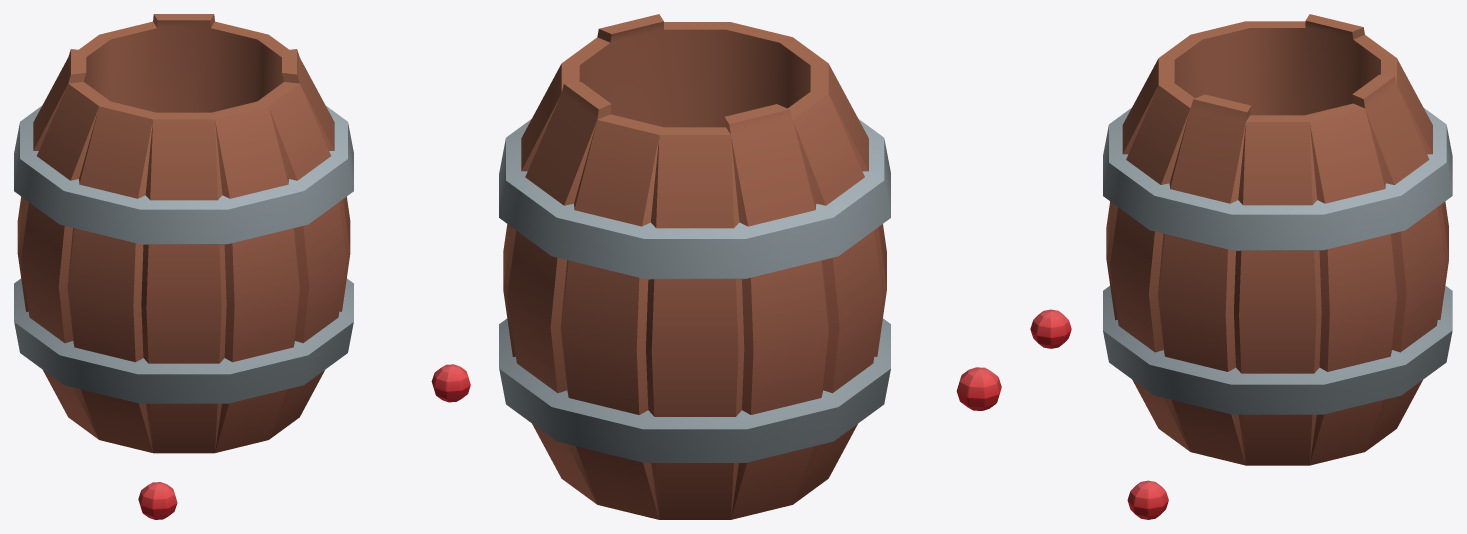
The model's file is apple_barrel_5.glb.
3 views of the same model, side by side, from view 1: azimuth 30°, elevation 25°; view 2: azimuth 150°, elevation 25°; view 3: azimuth 270°, elevation 25° (orthographic). The views are drawn at different scales.
Visible parts, largest first — view 1: apple_barrel_5; view 2: apple_barrel_5; view 3: apple_barrel_5.
Boxes of the visible parts, bbox=[...] form: apple_barrel_5: bbox=[14, 14, 470, 519]; apple_barrel_5: bbox=[499, 14, 1001, 519]; apple_barrel_5: bbox=[1030, 14, 1452, 519].
Size of the model in its own units: 1.38 by 1.2 by 1.3.
2 materials, 2 textured.
